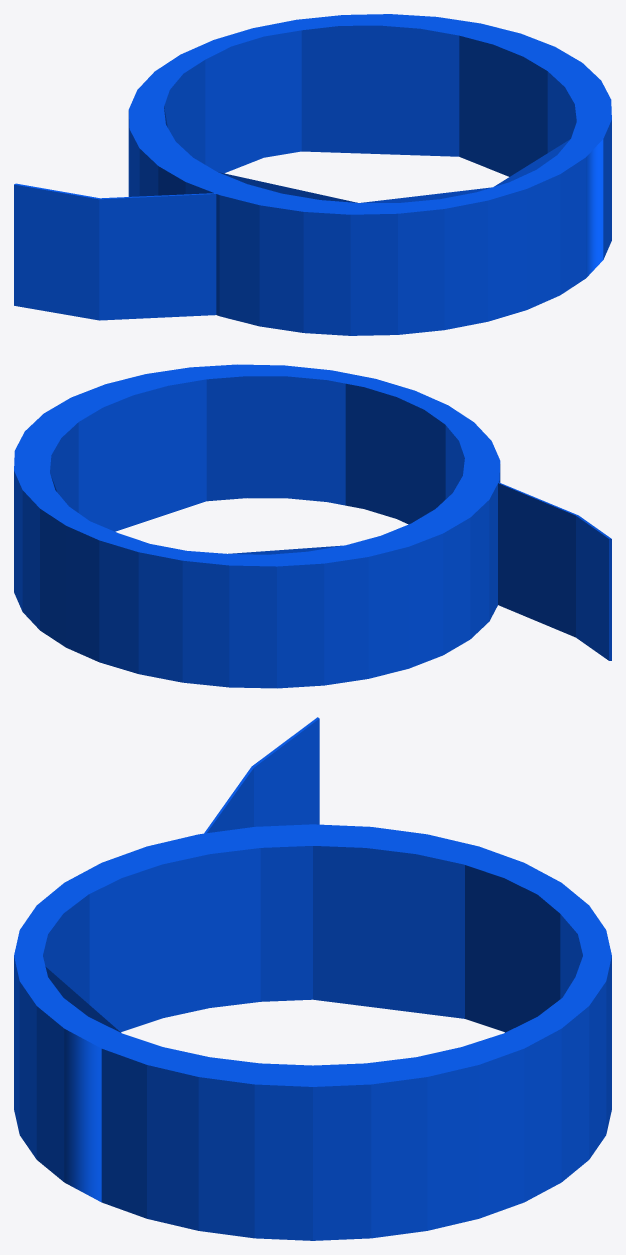
The model's file is Duck tape.fbx.
3 views of the same model, one above another, from view 1: azimuth 30°, elevation 25°; view 2: azimuth 150°, elevation 25°; view 3: azimuth 270°, elevation 25° (orthographic). The views are drawn at different scales.
Parts seen in each view (by area): view 1: Cylinder; view 2: Cylinder; view 3: Cylinder.
Part boxes in pixels (<box>): Cylinder: <box>14,14,611,335</box>; Cylinder: <box>14,364,611,688</box>; Cylinder: <box>14,717,611,1240</box>.
Bounding box in the file's own units: 36.07 × 8.28 × 25.97.
